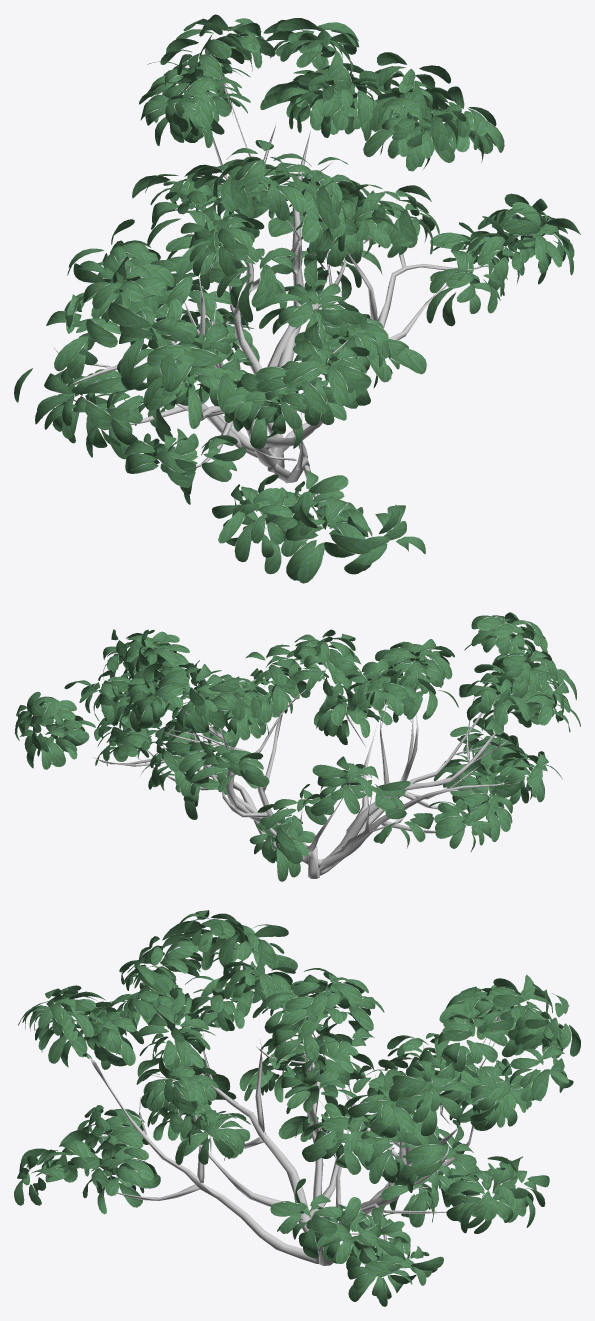
Rendered from plant1.gltf.
3 renders of one model, top to bottom at view 1: azimuth 30°, elevation 25°; view 2: azimuth 150°, elevation 25°; view 3: azimuth 270°, elevation 25°, orthographic. The views are drawn at different scales.
Parts seen in each view (by area): view 1: GS Deciduous bush A 1; view 2: GS Deciduous bush A 1; view 3: GS Deciduous bush A 1.
Boxes of the visible parts, left/top/right/bottom form: GS Deciduous bush A 1: left=14, top=14, right=580, bottom=583; GS Deciduous bush A 1: left=14, top=612, right=580, bottom=881; GS Deciduous bush A 1: left=14, top=910, right=580, bottom=1306.
Size of the model in its own units: 1.7 by 0.9372 by 1.58.
